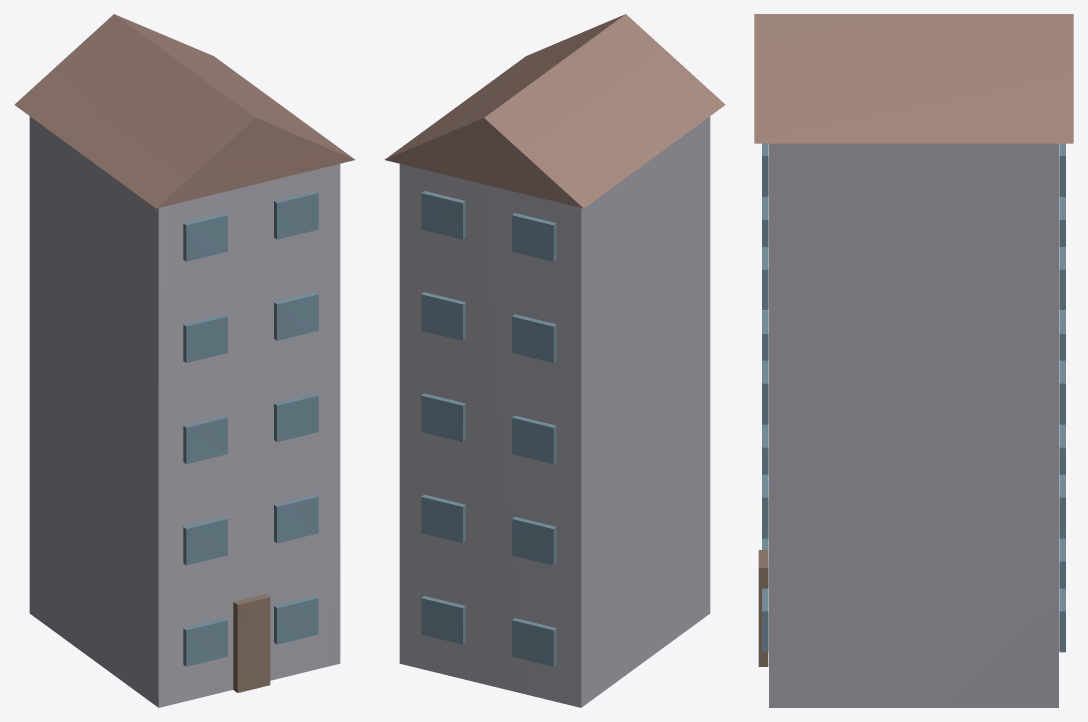
The model's file is townhouse-02.glb.
The picture shows the model from 3 angles, left to right: view 1: azimuth 30°, elevation 25°; view 2: azimuth 150°, elevation 25°; view 3: azimuth 270°, elevation 25°; orthographic projection. The views are drawn at different scales.
Visible parts, largest first — view 1: world; view 2: world; view 3: world.
Part boxes in pixels (x1,y1,x2,y2): world: (14,14,355,707); world: (384,14,725,707); world: (754,14,1073,707).
Size of the model in its own units: 0.9486 by 2.6 by 1.17.
